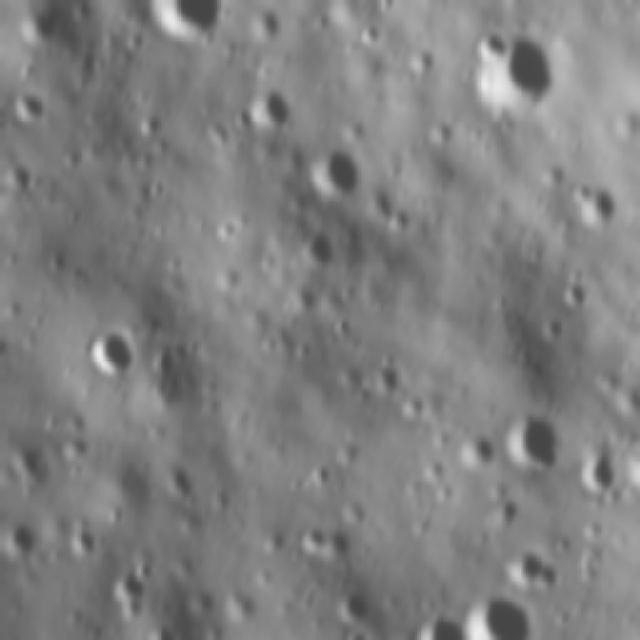crater: (473, 27, 573, 115), (499, 403, 576, 480), (98, 556, 178, 618), (81, 312, 142, 383), (138, 0, 237, 43), (289, 515, 362, 568), (464, 587, 533, 640), (578, 443, 632, 509), (305, 141, 361, 202), (570, 173, 622, 238), (0, 506, 48, 571), (1, 424, 45, 494), (57, 505, 106, 564), (448, 423, 498, 479), (5, 0, 62, 48), (407, 597, 468, 640), (248, 79, 301, 127), (292, 215, 343, 263), (331, 581, 380, 628), (5, 85, 50, 129), (3, 157, 40, 194)
